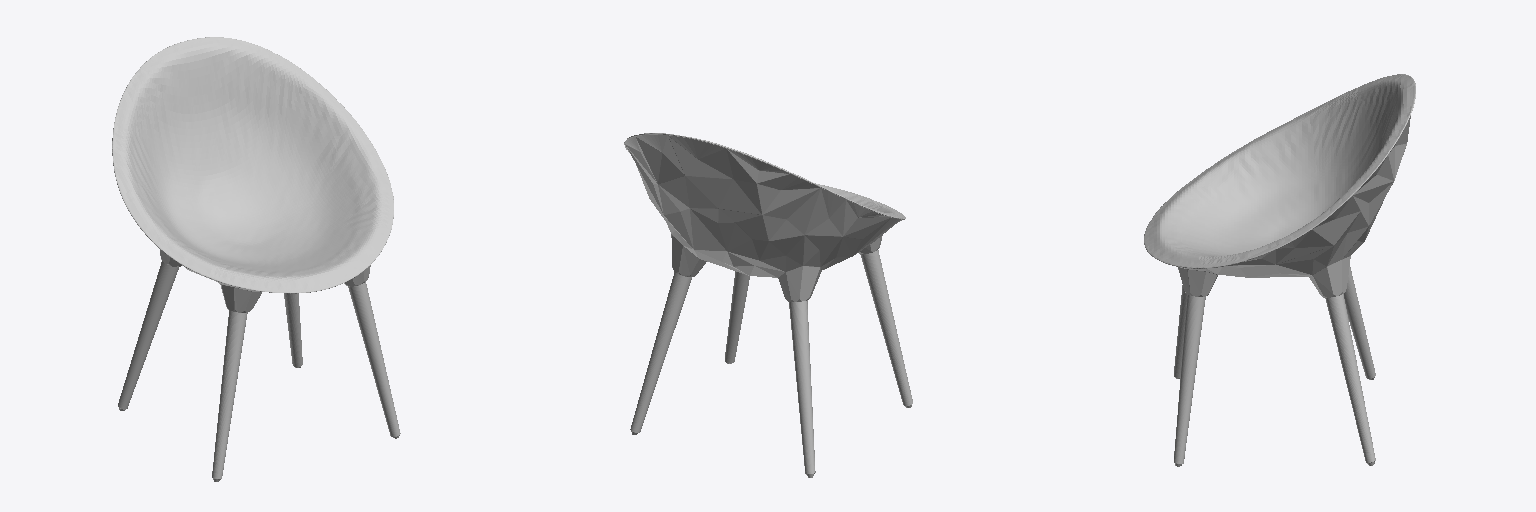
File: dieselChair.obj
3 views of the same model, side by side, from view 1: azimuth 30°, elevation 25°; view 2: azimuth 150°, elevation 25°; view 3: azimuth 270°, elevation 25° (orthographic).
Visible parts, largest first — view 1: diesel_rock_chair_a_studio; view 2: diesel_rock_chair_a_studio; view 3: diesel_rock_chair_a_studio.
Boxes of the visible parts, <box> form: diesel_rock_chair_a_studio: <box>112,37,400,481</box>; diesel_rock_chair_a_studio: <box>624,133,912,477</box>; diesel_rock_chair_a_studio: <box>1144,74,1415,466</box>.
Size of the model in its own units: 60.94 by 78.05 by 58.07.